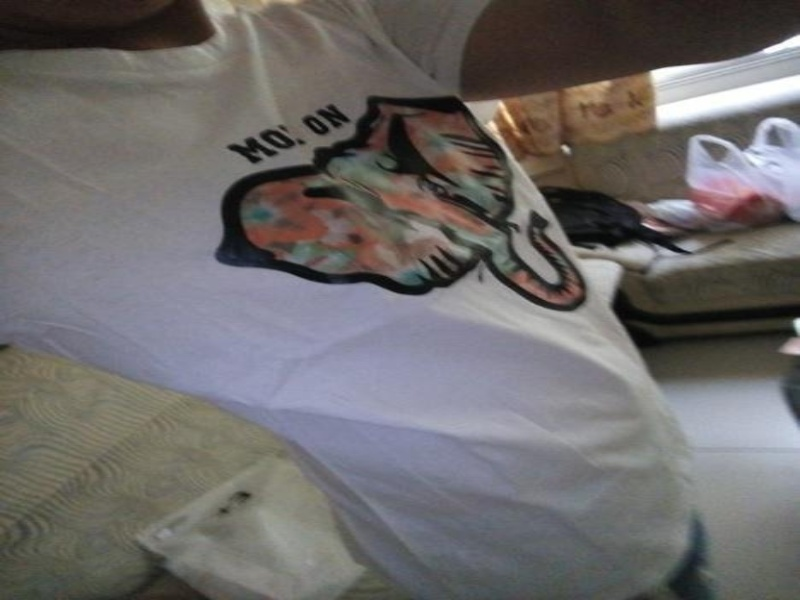short_sleeved_shirt: (0, 0, 720, 599)
